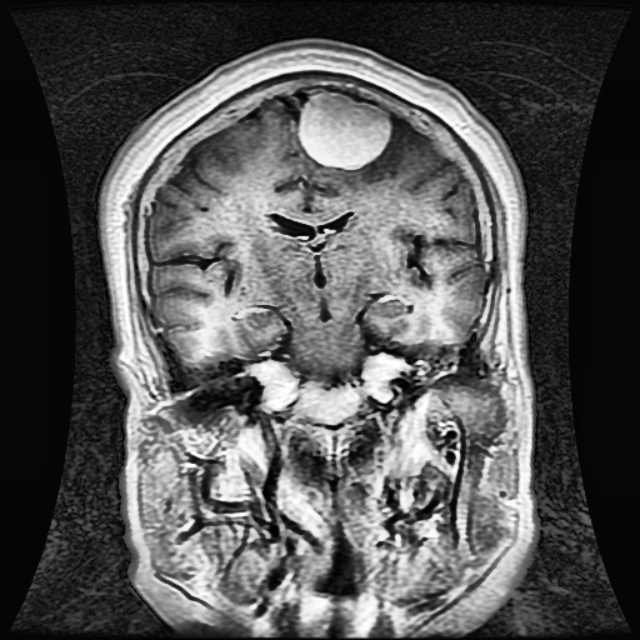Glioma: (299, 92, 392, 167)
